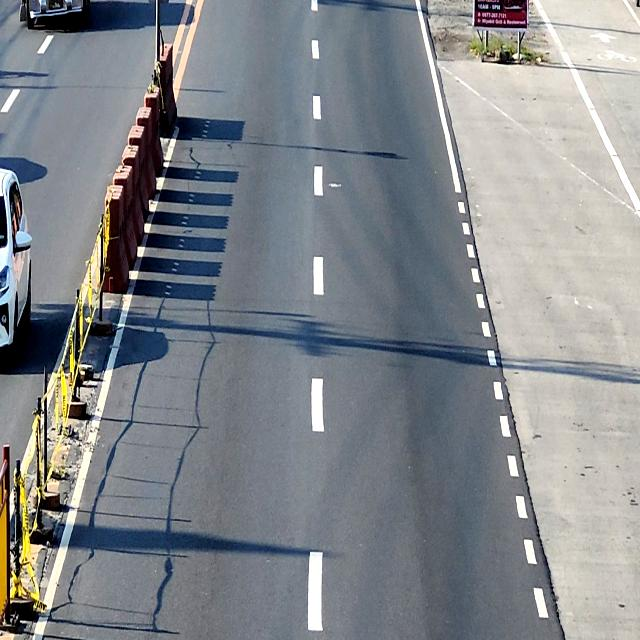Car: (0, 168, 32, 363)
Jeep: (20, 0, 91, 27)
